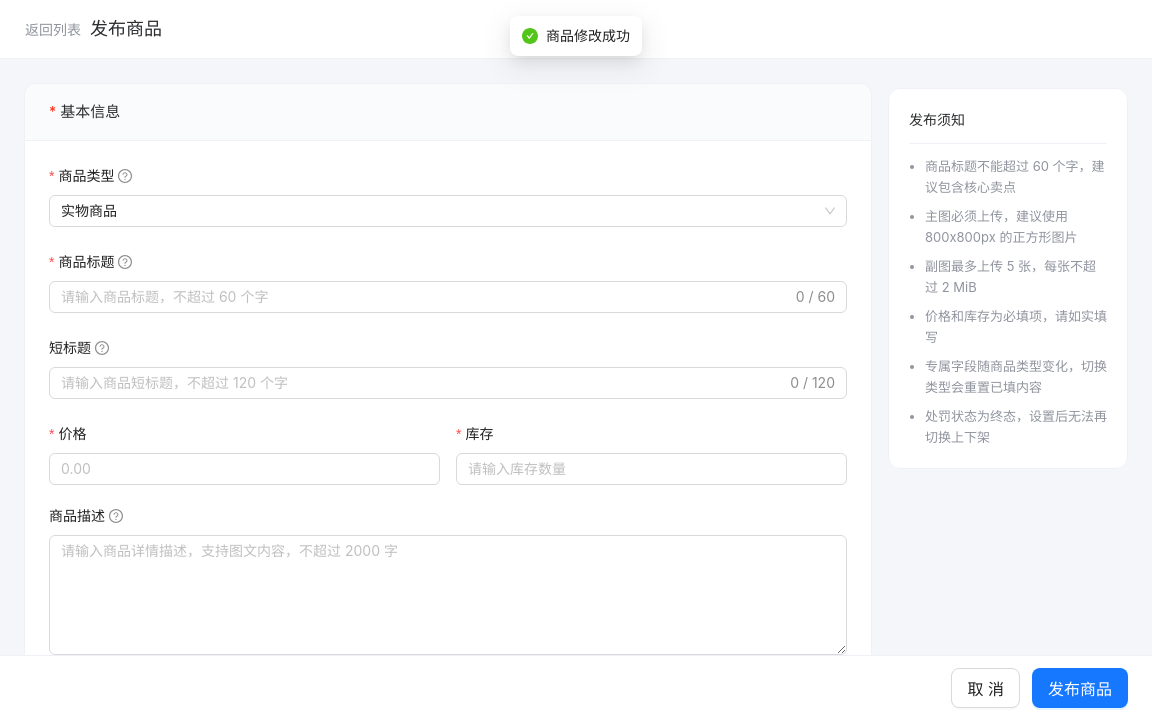
Test: ProductFormPage › 切换类型加载 active schema 失败后清空旧字段并阻断提交
Press the mouse on the dropdown labelled "商品类型": (98, 176) x1=49 y1=165 x2=146 y2=187
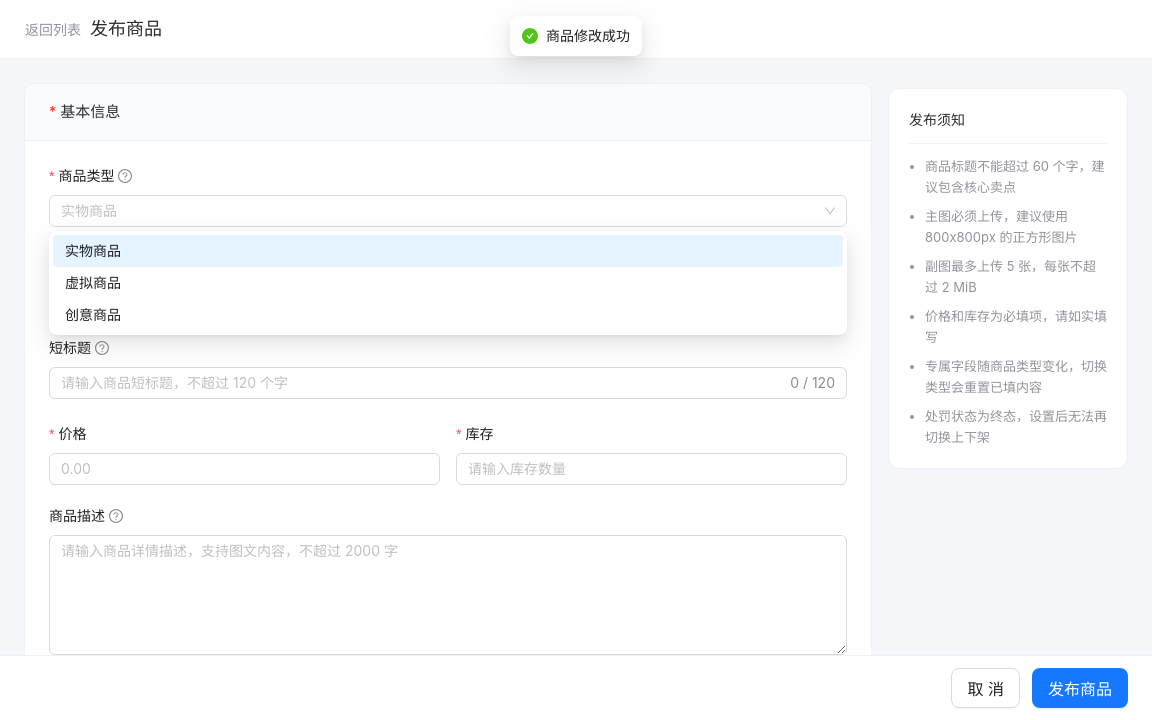
Click the text "虚拟商品": (93, 282) x1=65 y1=274 x2=121 y2=291
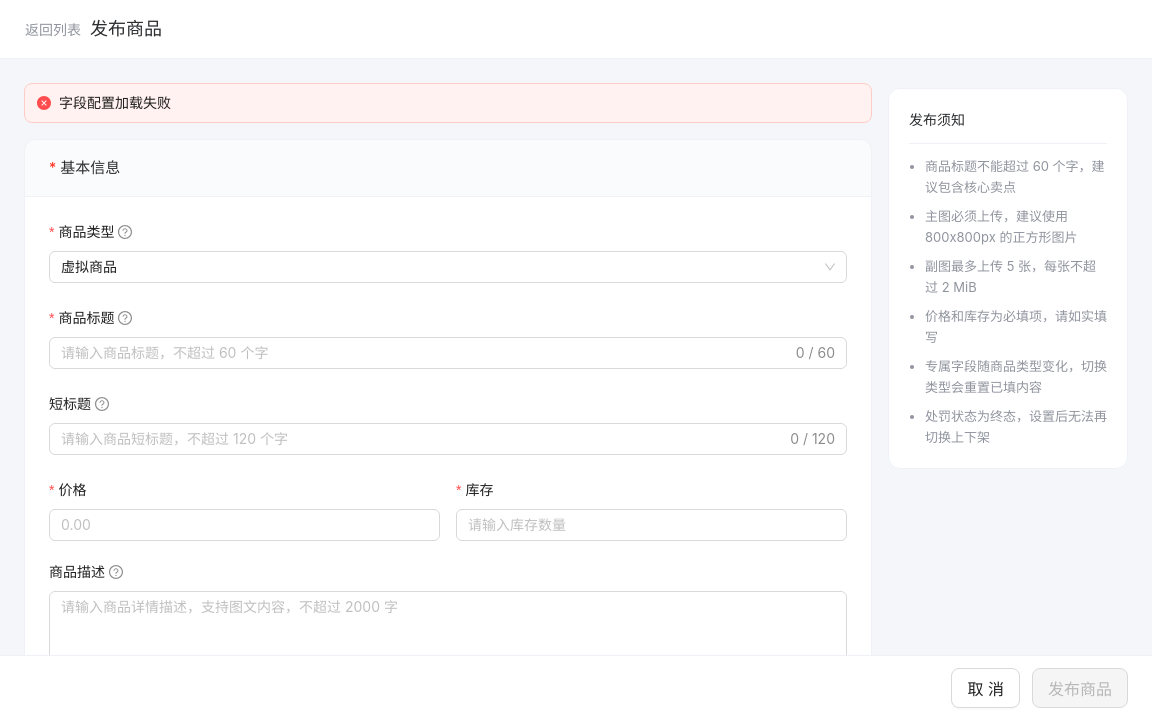
Expected: the message reads "字段配置加载失败", x1=59 y1=94 x2=171 y2=111
Expected: the button "发布商品" is disabled, x1=1032 y1=668 x2=1128 y2=708
